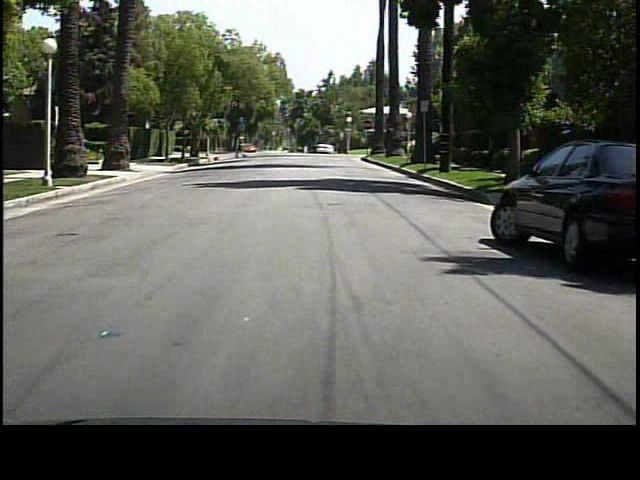person: (234, 131, 249, 162)
